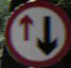Two way: (8, 6, 62, 57)
